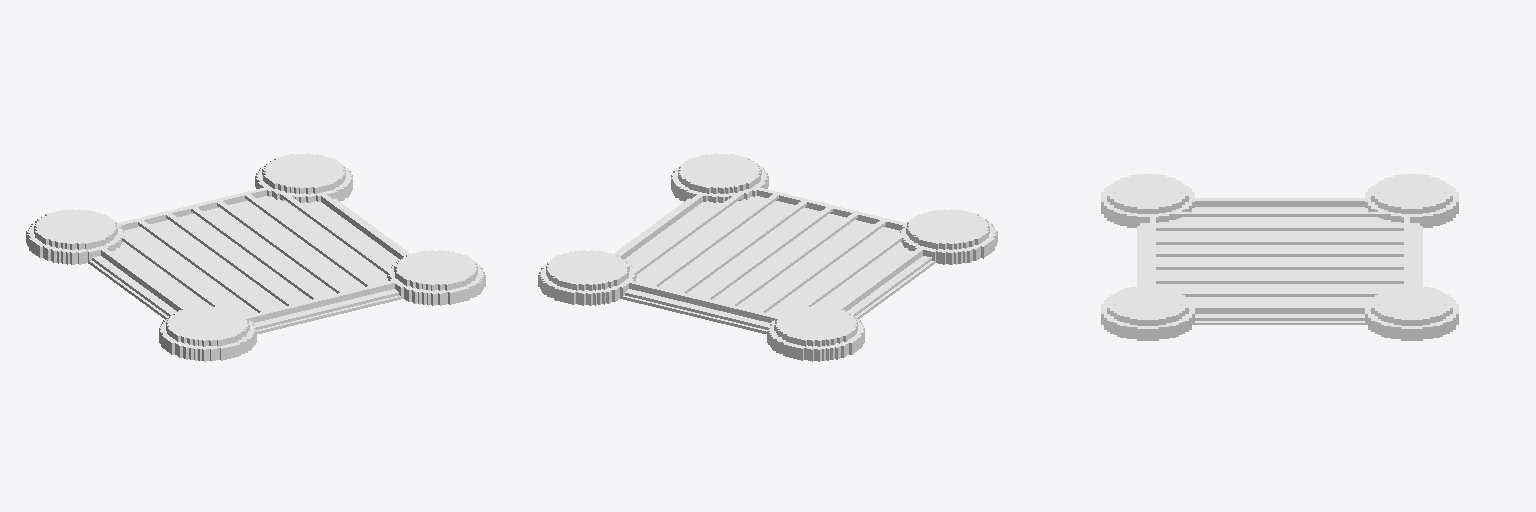
Rendered from telepo.obj.
3 renders of one model, left to right at view 1: azimuth 30°, elevation 25°; view 2: azimuth 150°, elevation 25°; view 3: azimuth 270°, elevation 25°, orthographic.
Parts seen in each view (by area): view 1: object 1; view 2: object 1; view 3: object 1.
Part boxes in pixels (bbox=[...]): object 1: bbox=[26, 153, 485, 361]; object 1: bbox=[538, 153, 997, 361]; object 1: bbox=[1101, 174, 1458, 340].
Bounding box in the file's own units: 11 × 0.6 × 11.